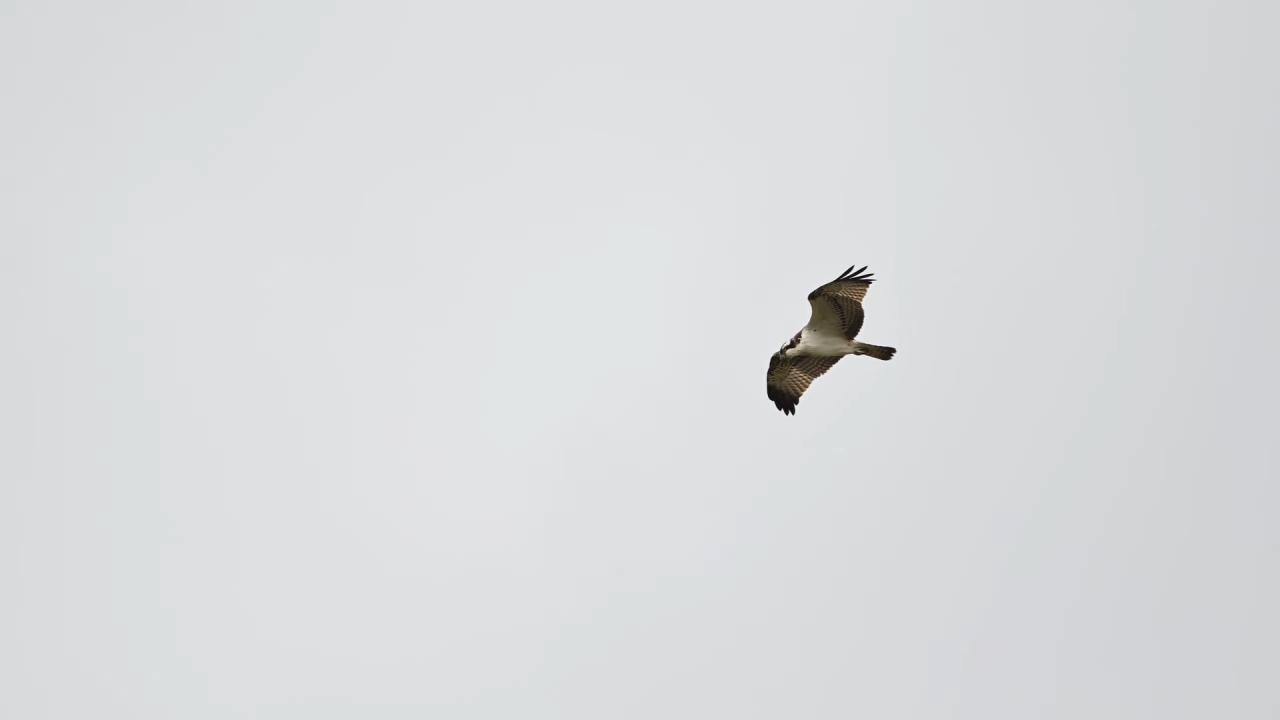Bird: (737, 256, 923, 427)
